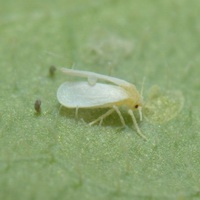insect: (57, 68, 146, 140)
